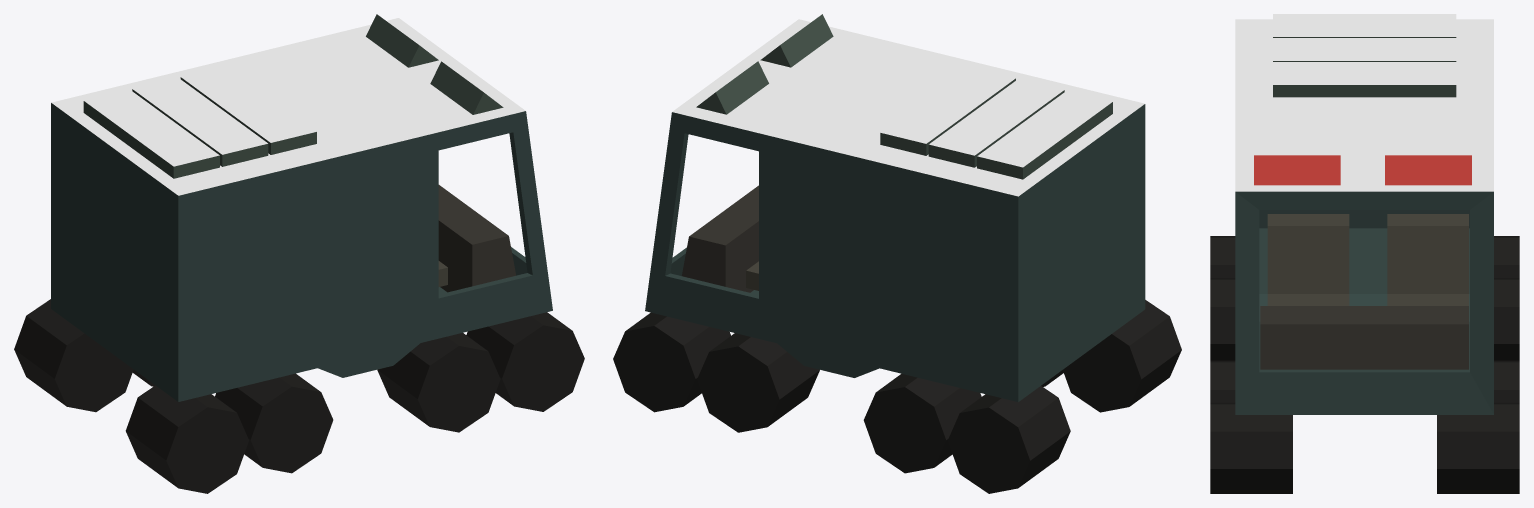
The model's file is Model_Frost_2x1B.fbx.
3 renders of one model, left to right at view 1: azimuth 30°, elevation 25°; view 2: azimuth 150°, elevation 25°; view 3: azimuth 270°, elevation 25°, orthographic.
Visible parts, largest first — view 1: xueshan_che_1_2; view 2: xueshan_che_1_2; view 3: xueshan_che_1_2.
Boxes of the visible parts, x1,y1,x2,y2 form: xueshan_che_1_2: (14, 14, 584, 493); xueshan_che_1_2: (613, 14, 1181, 493); xueshan_che_1_2: (1210, 14, 1519, 493).
Bounding box in the file's own units: 247 × 176 × 155.
1 material, 1 textured.
